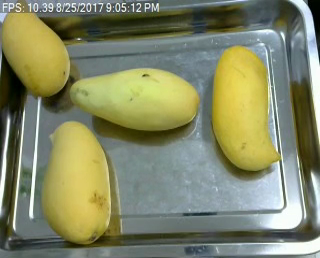Mango: (206, 44, 287, 171), (69, 65, 197, 134), (44, 121, 114, 243), (2, 0, 74, 96)
